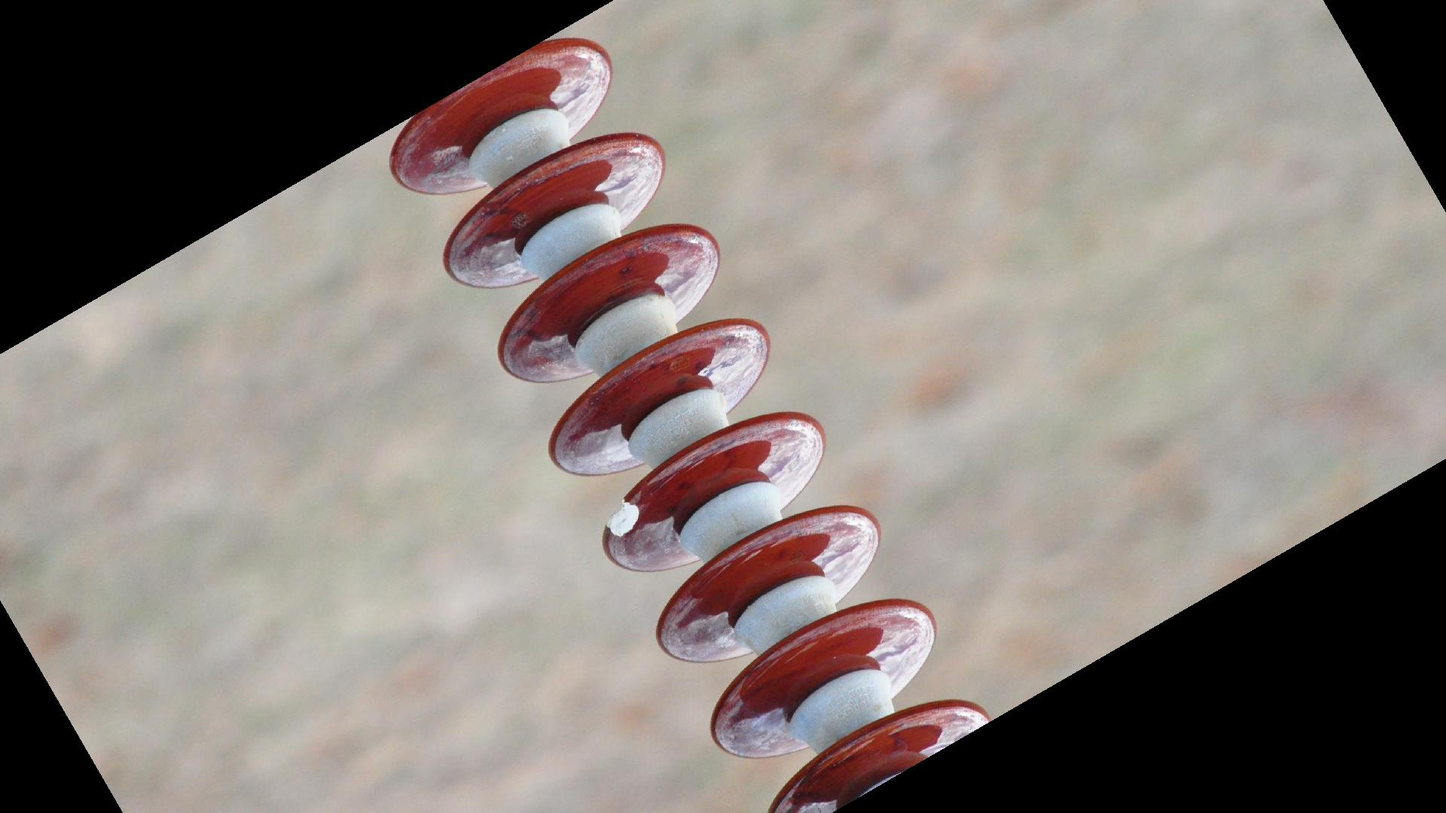insulator: (385, 29, 994, 813)
insulator_breakage: (601, 490, 647, 543)
